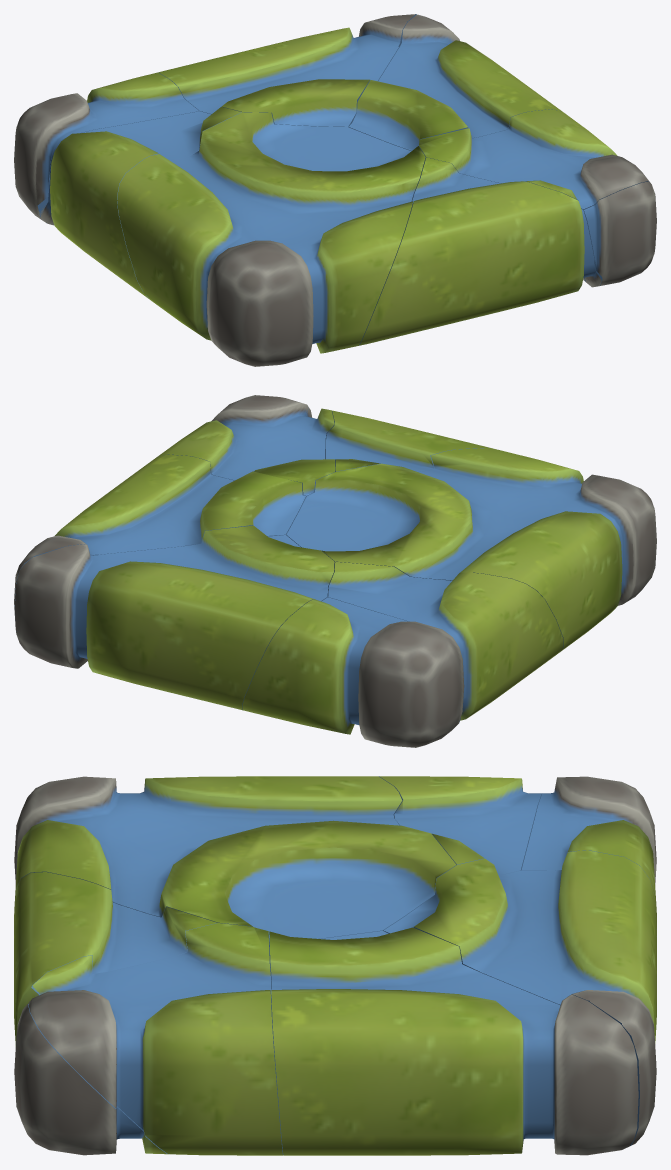
The model's file is arena block 4 broken.fbx.
The picture shows the model from 3 angles, top to bottom: view 1: azimuth 30°, elevation 25°; view 2: azimuth 150°, elevation 25°; view 3: azimuth 270°, elevation 25°; orthographic projection. The views are drawn at different scales.
Parts seen in each view (by area): view 1: arena block 4 lp.002_cell.005, arena block 4 lp.002_cell.001, arena block 4 lp.002_cell.007, arena block 4 lp.002_cell.003, arena block 4 lp.002_cell.006, arena block 4 lp.002_cell.004, arena block 4 lp.002_cell.002, arena block 4 lp.002_cell; view 2: arena block 4 lp.002_cell.005, arena block 4 lp.002_cell.007, arena block 4 lp.002_cell.002, arena block 4 lp.002_cell.006, arena block 4 lp.002_cell.003, arena block 4 lp.002_cell.004, arena block 4 lp.002_cell.001; view 3: arena block 4 lp.002_cell.003, arena block 4 lp.002_cell.005, arena block 4 lp.002_cell.004, arena block 4 lp.002_cell.007, arena block 4 lp.002_cell.001, arena block 4 lp.002_cell.006, arena block 4 lp.002_cell, arena block 4 lp.002_cell.002.
Part boxes in pixels (x1=…): arena block 4 lp.002_cell.005: x1=117, y1=112, x2=425, y2=366; arena block 4 lp.002_cell.001: x1=359, y1=157, x2=601, y2=345; arena block 4 lp.002_cell.007: x1=156, y1=14, x2=416, y2=126; arena block 4 lp.002_cell.003: x1=349, y1=14, x2=561, y2=150; arena block 4 lp.002_cell.006: x1=39, y1=107, x2=241, y2=300; arena block 4 lp.002_cell.004: x1=419, y1=109, x2=649, y2=209; arena block 4 lp.002_cell.002: x1=14, y1=72, x2=199, y2=222; arena block 4 lp.002_cell: x1=583, y1=182, x2=656, y2=285; arena block 4 lp.002_cell.005: x1=286, y1=448, x2=656, y2=652; arena block 4 lp.002_cell.007: x1=14, y1=525, x2=334, y2=710; arena block 4 lp.002_cell.002: x1=242, y1=597, x2=464, y2=747; arena block 4 lp.002_cell.006: x1=327, y1=561, x2=563, y2=722; arena block 4 lp.002_cell.003: x1=14, y1=454, x2=306, y2=632; arena block 4 lp.002_cell.004: x1=157, y1=395, x2=335, y2=496; arena block 4 lp.002_cell.001: x1=325, y1=410, x2=499, y2=472; arena block 4 lp.002_cell.003: x1=269, y1=927, x2=638, y2=1155; arena block 4 lp.002_cell.005: x1=14, y1=776, x2=456, y2=941; arena block 4 lp.002_cell.004: x1=28, y1=923, x2=283, y2=1155; arena block 4 lp.002_cell.007: x1=383, y1=850, x2=656, y2=1149; arena block 4 lp.002_cell.001: x1=14, y1=872, x2=217, y2=1046; arena block 4 lp.002_cell.006: x1=379, y1=776, x2=543, y2=875; arena block 4 lp.002_cell: x1=14, y1=1004, x2=169, y2=1155; arena block 4 lp.002_cell.002: x1=521, y1=776, x2=656, y2=935.
Size of the model in its own units: 200 by 49.82 by 200.
